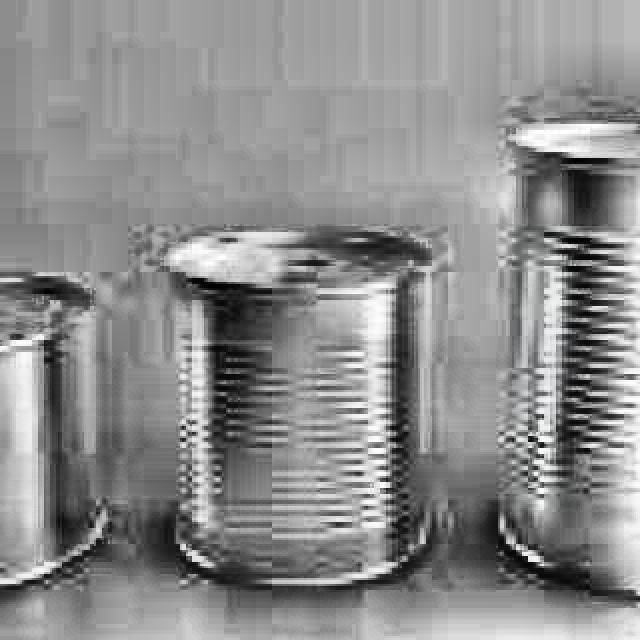metal: (165, 222, 454, 595), (492, 123, 640, 593), (0, 271, 111, 573)
